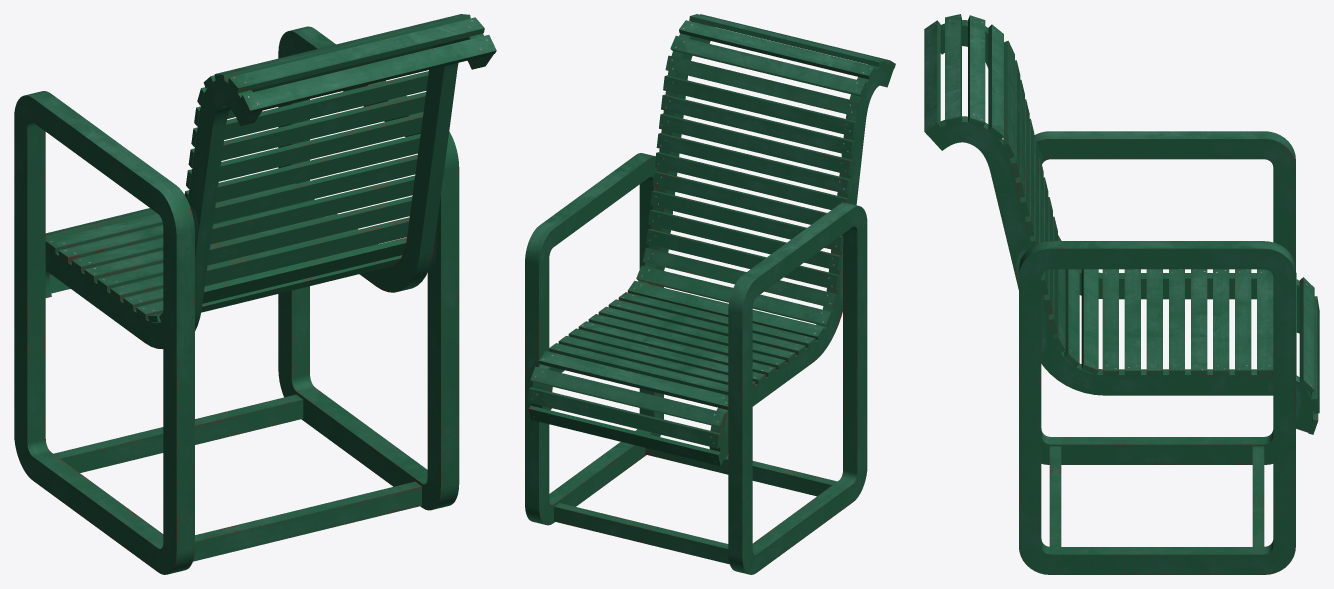
Rendered from ghe2.gltf.
The picture shows the model from 3 angles, left to right: view 1: azimuth 30°, elevation 25°; view 2: azimuth 150°, elevation 25°; view 3: azimuth 270°, elevation 25°; orthographic projection. The views are drawn at different scales.
Visible parts, largest first — view 1: Chair_low_Chair_0; view 2: Chair_low_Chair_0; view 3: Chair_low_Chair_0.
Boxes of the visible parts, x1,y1,x2,y2 form: Chair_low_Chair_0: (14, 14, 496, 574); Chair_low_Chair_0: (525, 14, 895, 574); Chair_low_Chair_0: (924, 14, 1319, 574).
Bounding box in the file's own units: 1.23 × 2.2 × 1.75.
Materials: 1 (1 with a texture image).
